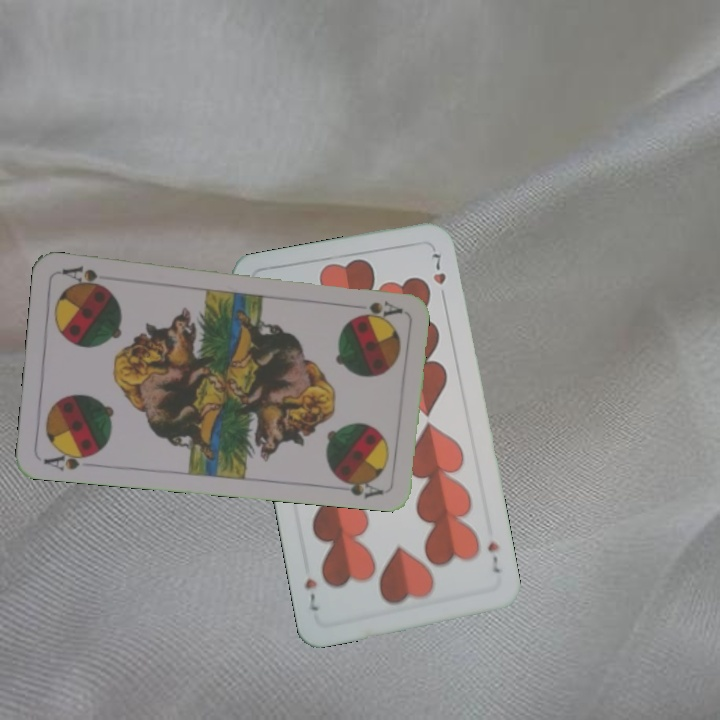H7: (483, 537, 503, 576)
SA: (39, 445, 99, 473), (365, 297, 404, 317)
